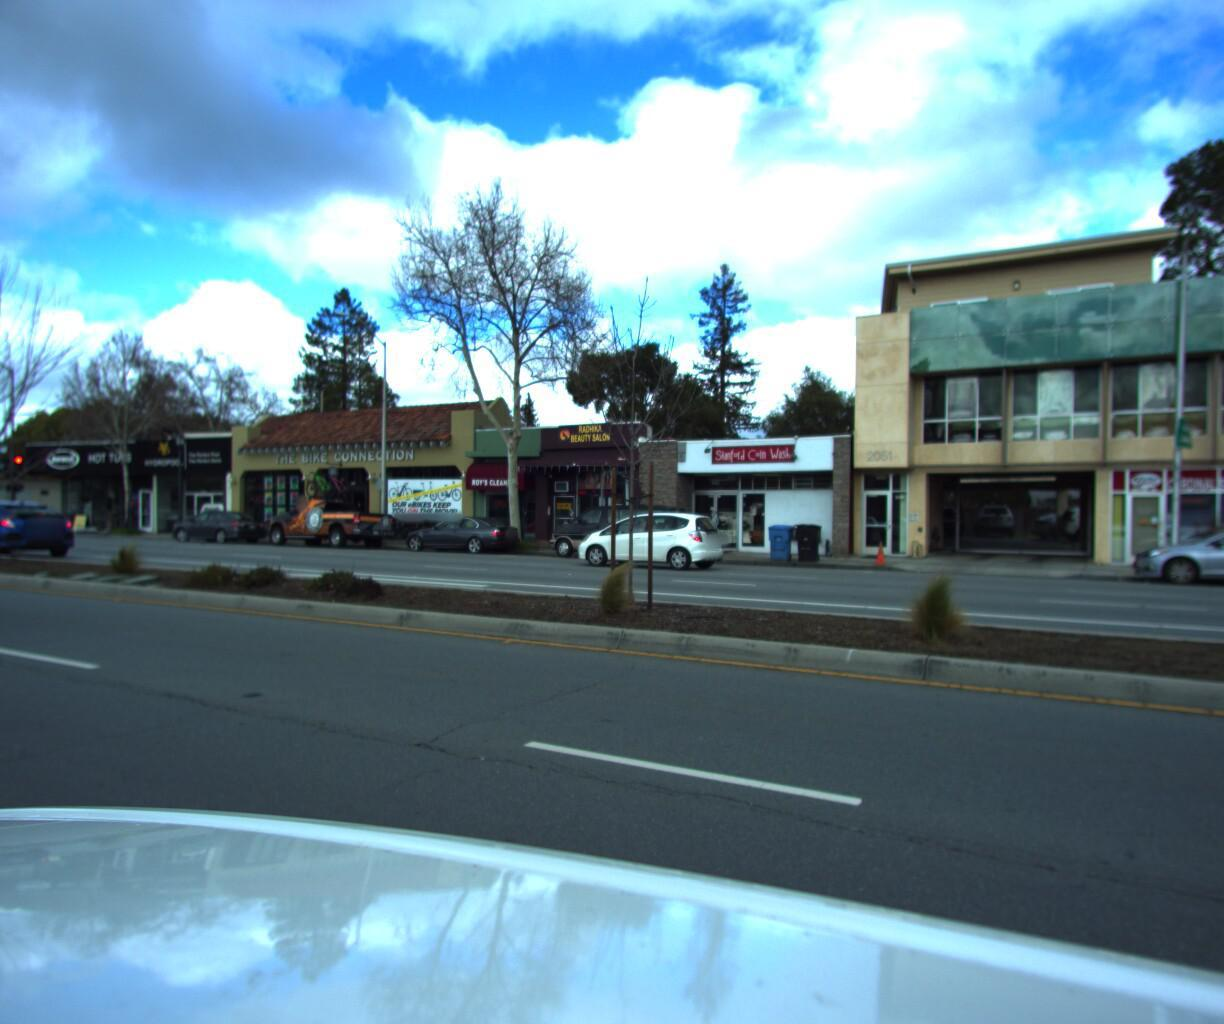car: (254, 467, 399, 547), (564, 503, 729, 569), (540, 499, 701, 559), (1122, 516, 1224, 594), (393, 510, 525, 552), (0, 496, 82, 558), (161, 505, 271, 542)
